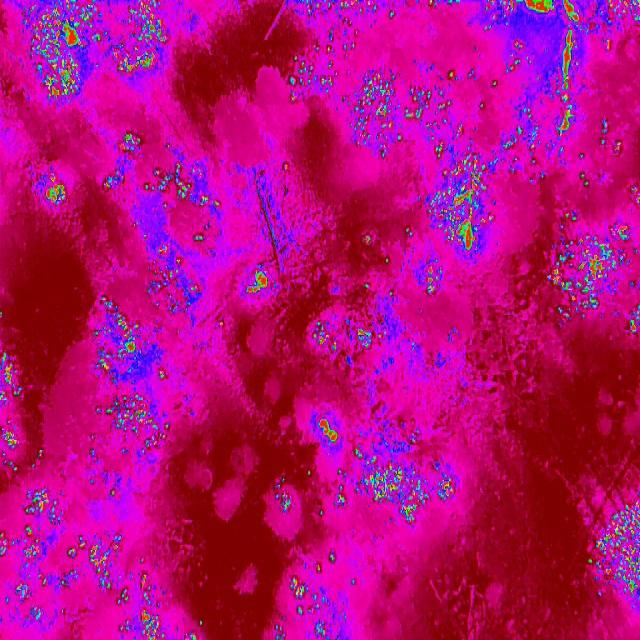fire: (278, 0, 493, 162), (0, 484, 178, 640), (477, 0, 640, 142), (535, 142, 640, 336), (297, 411, 458, 532), (12, 0, 176, 110), (88, 290, 180, 454), (255, 549, 358, 639), (142, 158, 226, 253), (424, 148, 500, 252), (356, 225, 452, 303), (582, 494, 640, 614), (298, 310, 388, 362), (0, 341, 32, 478), (102, 126, 143, 190), (238, 260, 276, 308), (37, 166, 72, 213), (265, 472, 295, 516), (188, 620, 205, 640)
